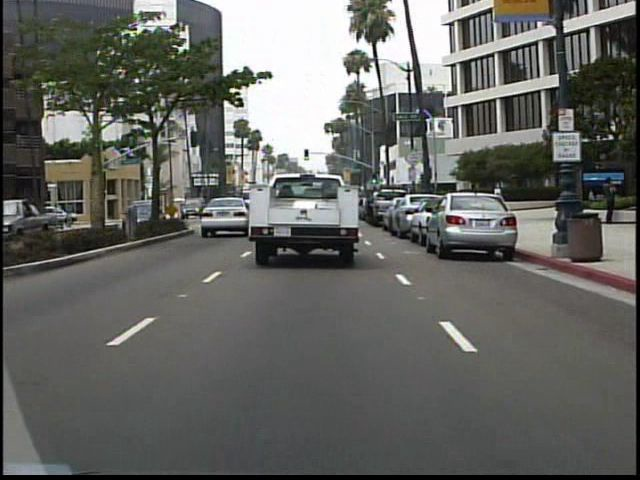person: (599, 174, 620, 229)
